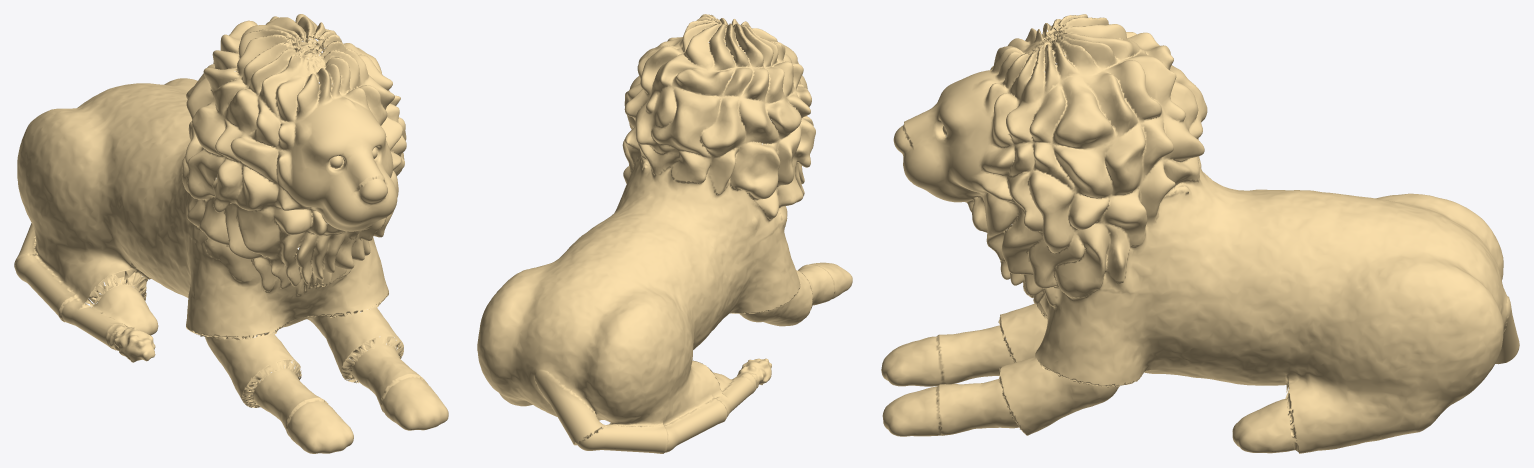
The model's file is lion_lod0.glb.
3 renders of one model, left to right at view 1: azimuth 30°, elevation 25°; view 2: azimuth 150°, elevation 25°; view 3: azimuth 270°, elevation 25°, orthographic. The views are drawn at different scales.
Parts seen in each view (by area): view 1: lion; view 2: lion; view 3: lion.
Boxes of the visible parts, box(x1,y1,x2,y2) form: lion: box(14, 14, 448, 453); lion: box(477, 14, 852, 453); lion: box(881, 14, 1519, 453).
Bounding box in the file's own units: 1.77 × 2.59 × 3.97.
